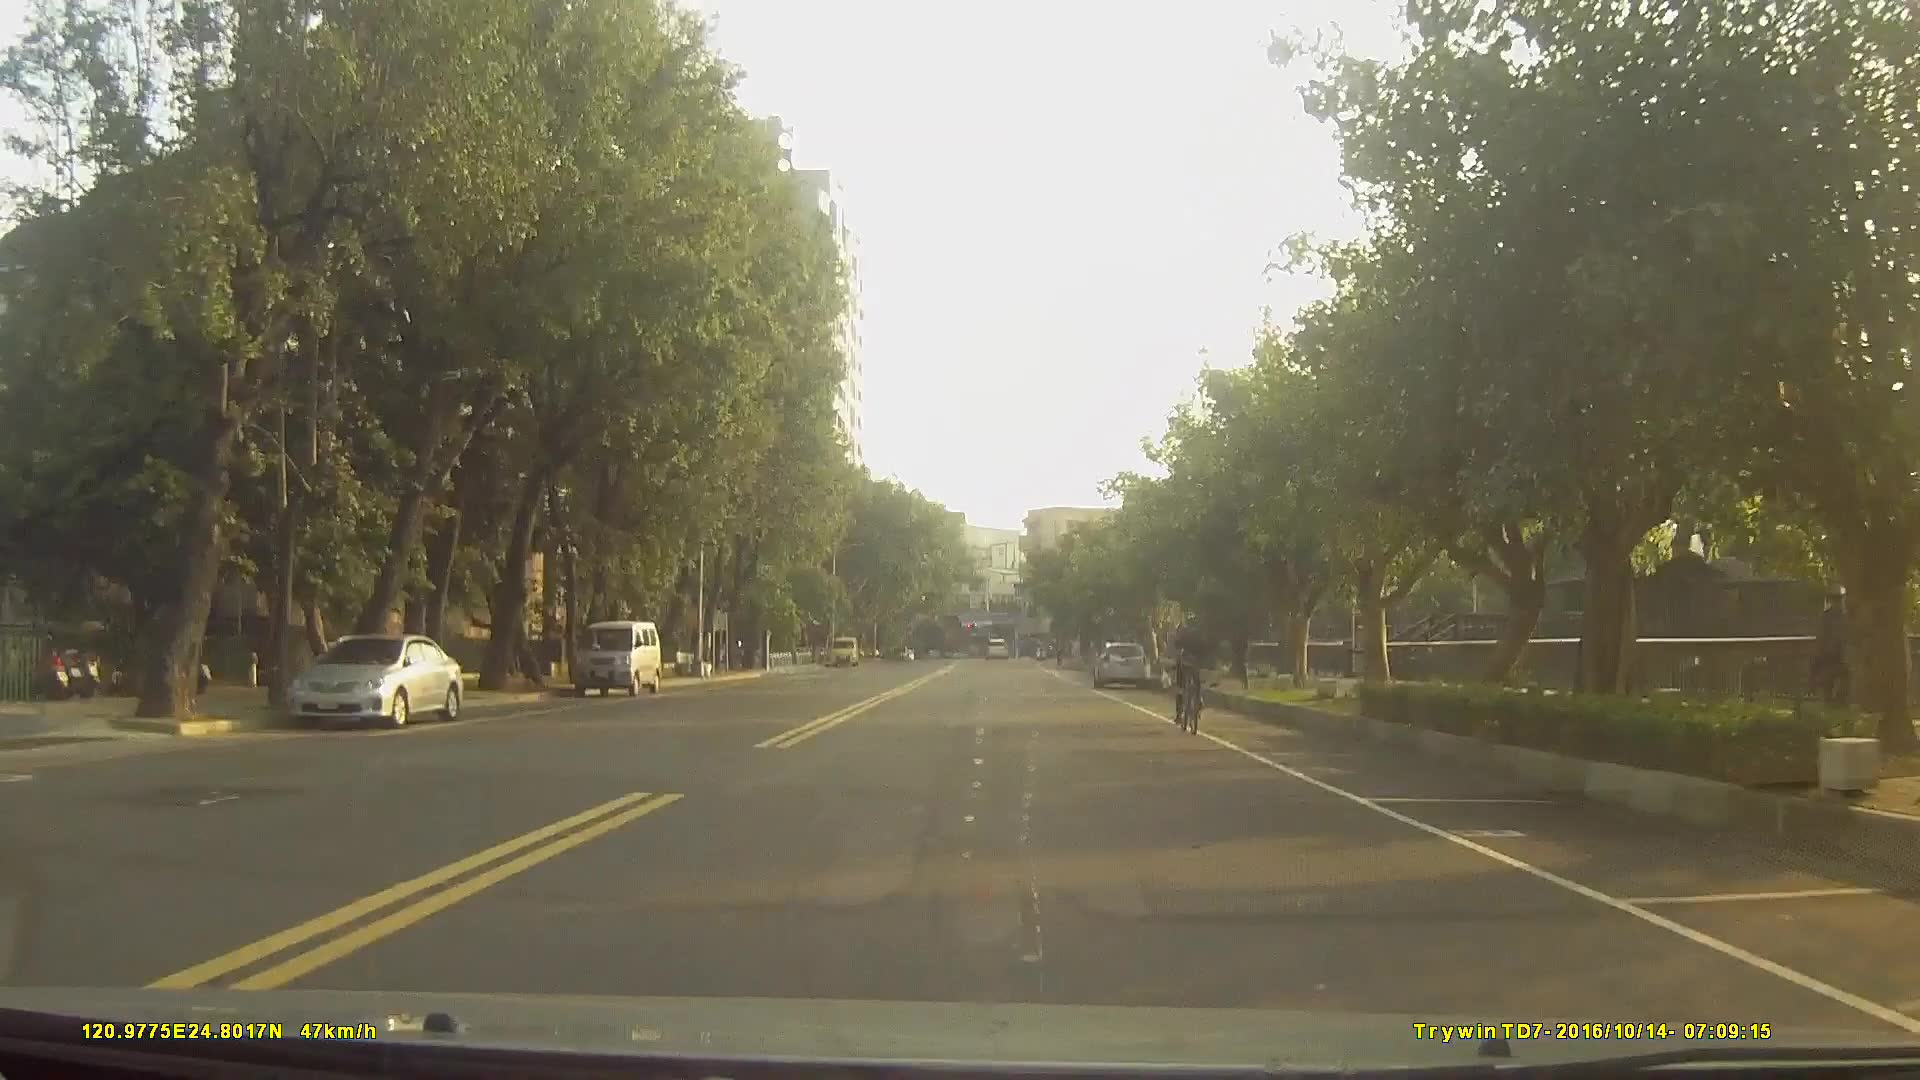rider: (1172, 608, 1211, 730)
vehicle: (286, 629, 466, 731), (571, 616, 662, 695), (1092, 639, 1154, 691), (981, 633, 1008, 661)
